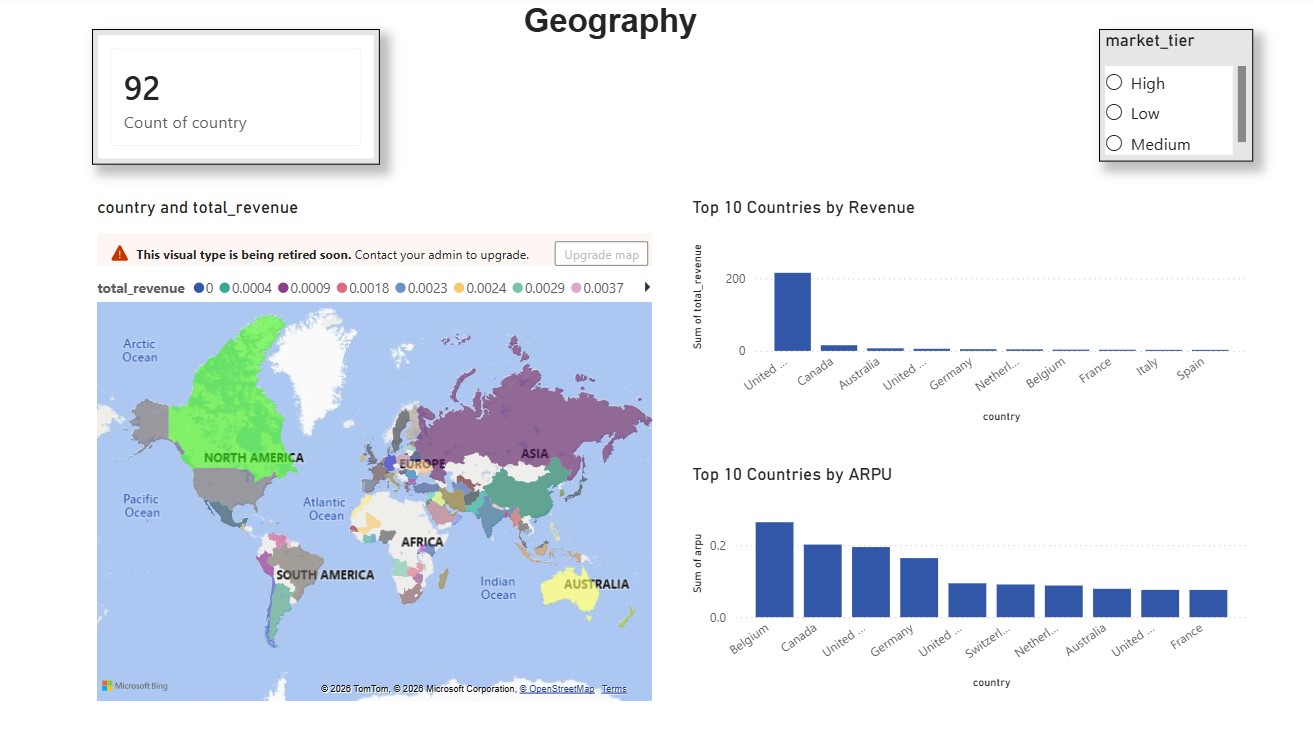

This screenshot's page, from the dashboard's own definition file:
{"tool":"powerbi","page":{"name":"Geography","canvas":[1280,720],"ordinal":3},"visuals":[{"type":"textbox","box":[443.2,0,300.5,63.1],"z":1},{"type":"cardVisual","fields":{"Data":["Count(geography_clean.country)"]},"box":[89.2,31.6,280,132],"z":2},{"type":"filledMap","fields":{"Category":["geography_clean.country"],"Series":["geography_clean.total_revenue"]},"box":[89.2,194.9,550.3,495.4],"z":3},{"type":"clusteredColumnChart","title":"Top 10 Countries by Revenue","fields":{"Category":["geography_clean.country"],"Y":["Sum(geography_clean.total_revenue)"]},"box":[668.3,194.9,550.3,223.7],"z":4},{"type":"clusteredColumnChart","title":"Top 10 Countries by ARPU","fields":{"Category":["geography_clean.country"],"Y":["Sum(geography_clean.arpu)"]},"box":[668.3,454.2,550,223],"z":5},{"type":"listSlicer","fields":{"Values":["geography_clean.market_tier"]},"box":[1069,31.6,149.6,129],"z":6}]}

Visuals, with their boxes in screenshot pixels (x1, y1, x2, y2), scaled from the page's 1280x720 canvas onto the 1313x736 screenshot:
textbox: [x1=455, y1=0, x2=763, y2=65]
cardVisual - Count(geography_clean.country): [x1=91, y1=32, x2=379, y2=167]
filledMap - geography_clean.country x geography_clean.total_revenue: [x1=91, y1=199, x2=656, y2=706]
"Top 10 Countries by Revenue" clusteredColumnChart: [x1=686, y1=199, x2=1250, y2=428]
"Top 10 Countries by ARPU" clusteredColumnChart: [x1=686, y1=464, x2=1250, y2=692]
listSlicer - geography_clean.market_tier: [x1=1097, y1=32, x2=1250, y2=164]
